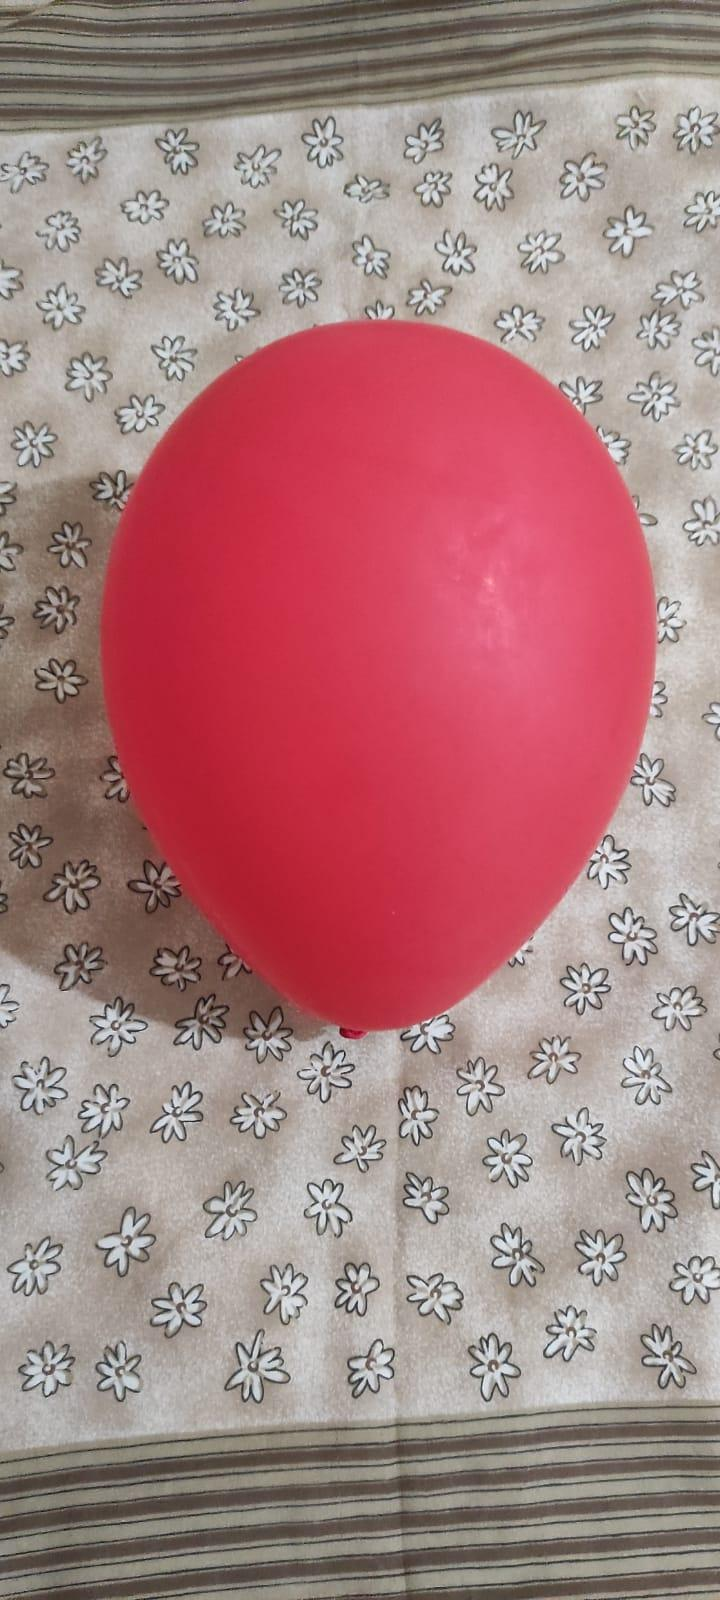red: (104, 317, 659, 1049)
